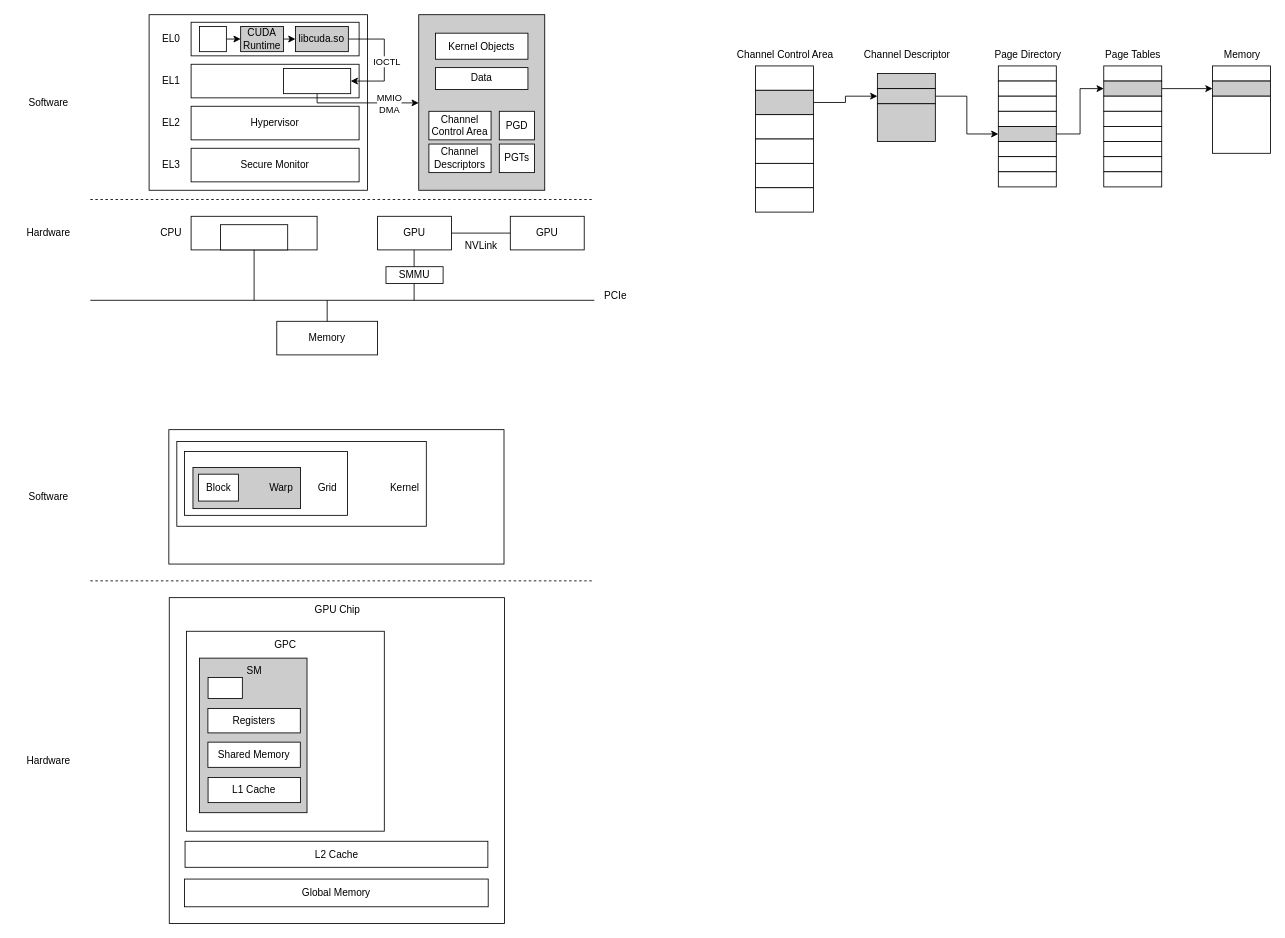
The diagram is 1285 pixels wide and 938 high, and some of its shapes have lost their labels. Each missing label, with the centre of its shape:
"App" goes at (x=212, y=39).
"Core" goes at (x=224, y=687).
"GPU Driver" goes at (x=317, y=81).
"MMU" goes at (x=254, y=237).
